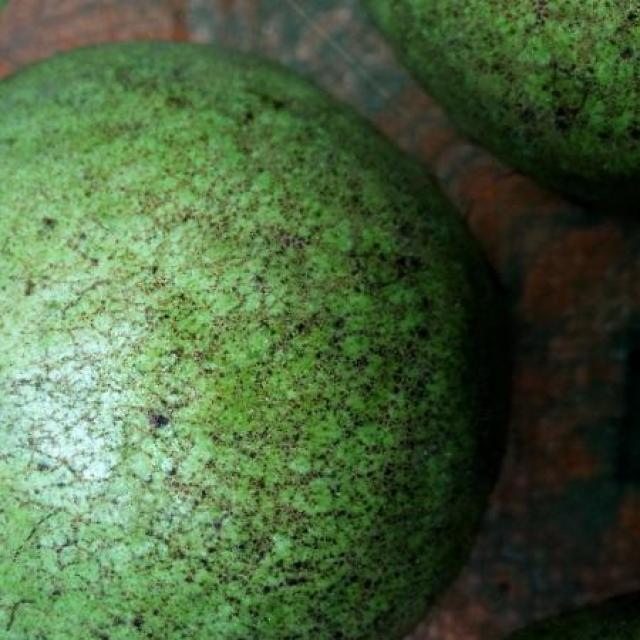Scab: (0, 45, 496, 639), (364, 0, 640, 212)
